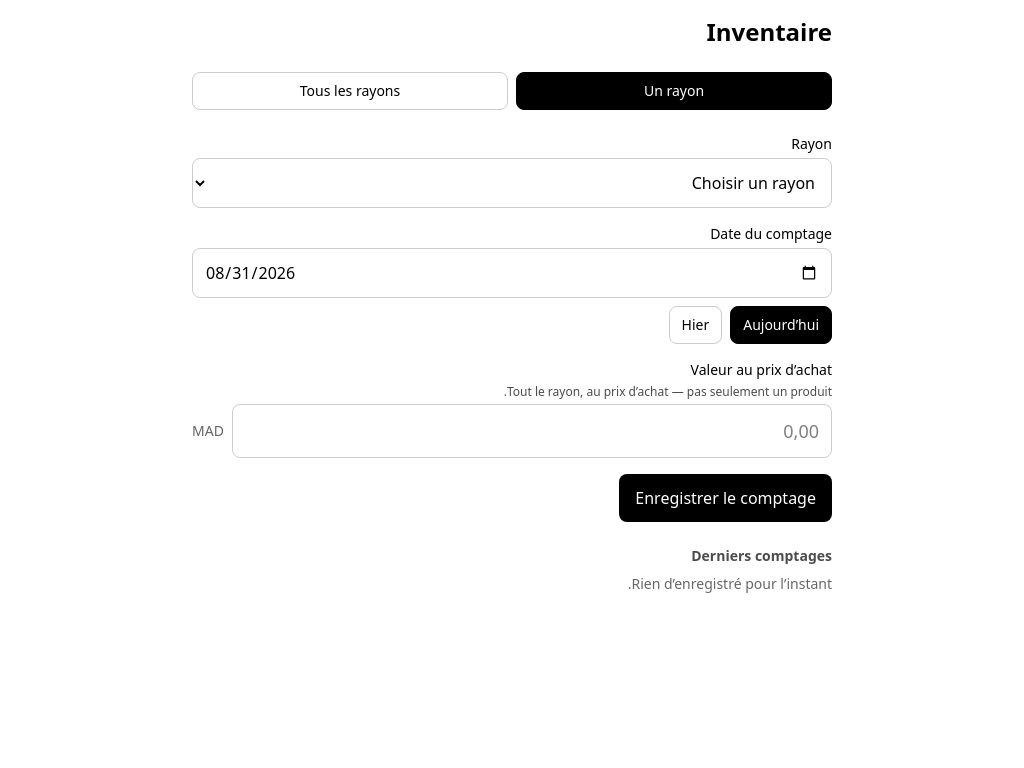
single count › runs the plausibility check on a standalone count too
Select "Produits laitiers" in the dropdown labelled "Rayon": (512, 183) [192,158,832,208]
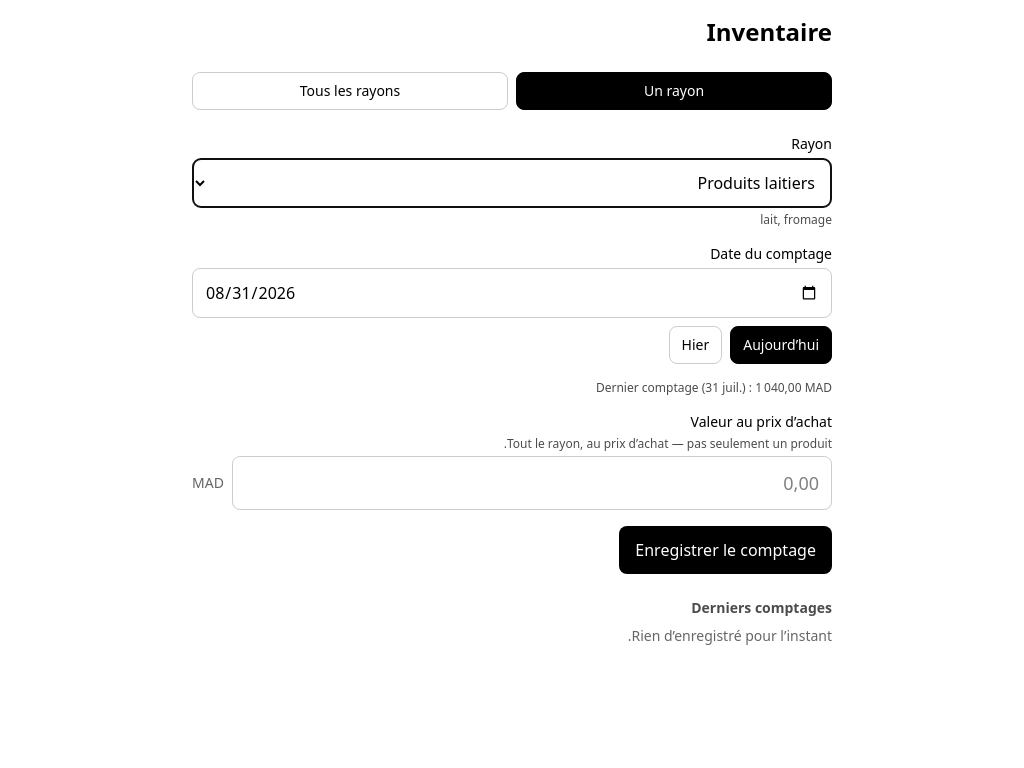
In the field labelled "Valeur au prix d’achat": (532, 483) [232,456,832,510], type "900"
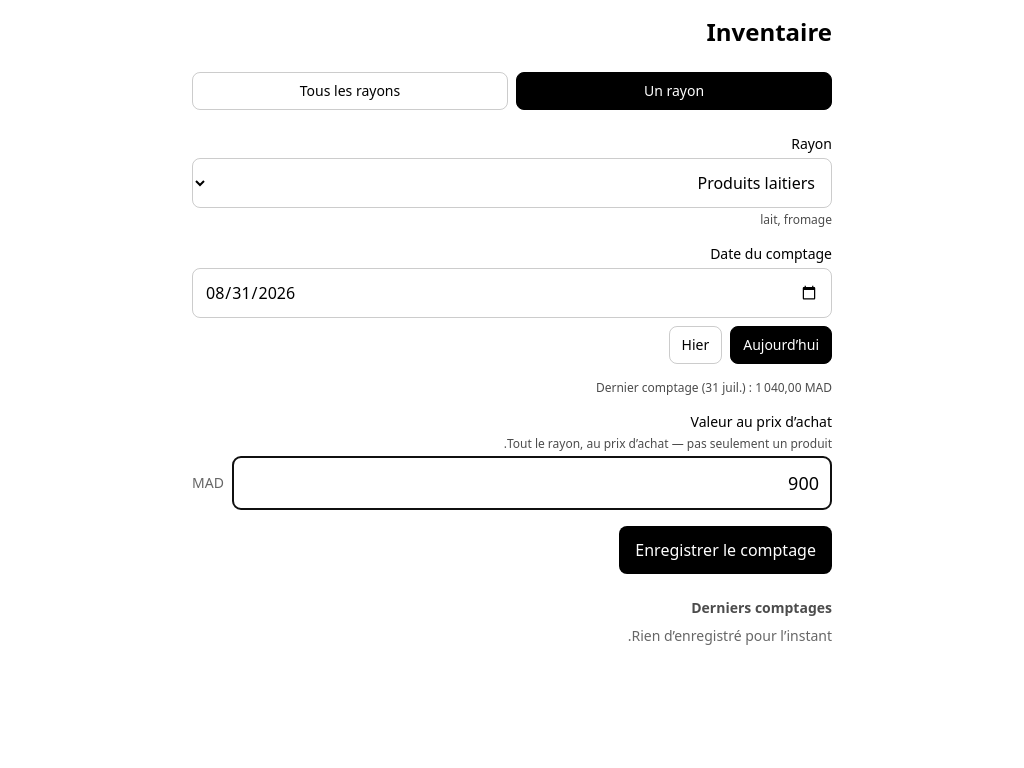
Click the button "Enregistrer le comptage": (726, 550) [619,526,832,574]
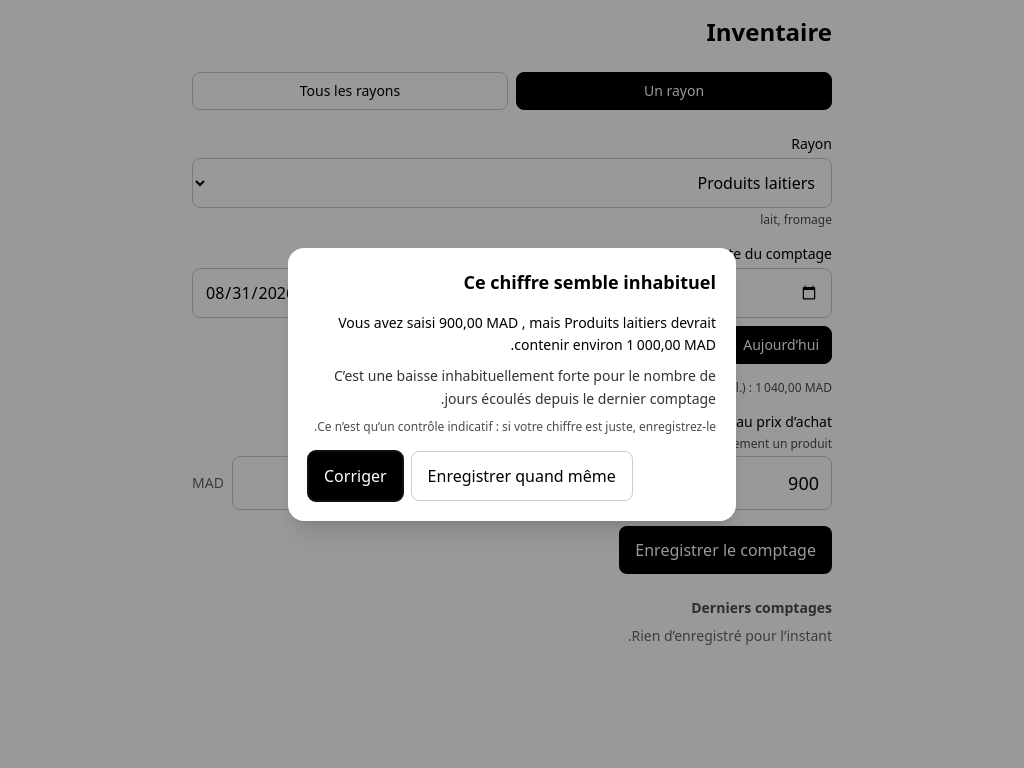
expect the dialog shows "inhabituel": met, box [464,270,716,294]
